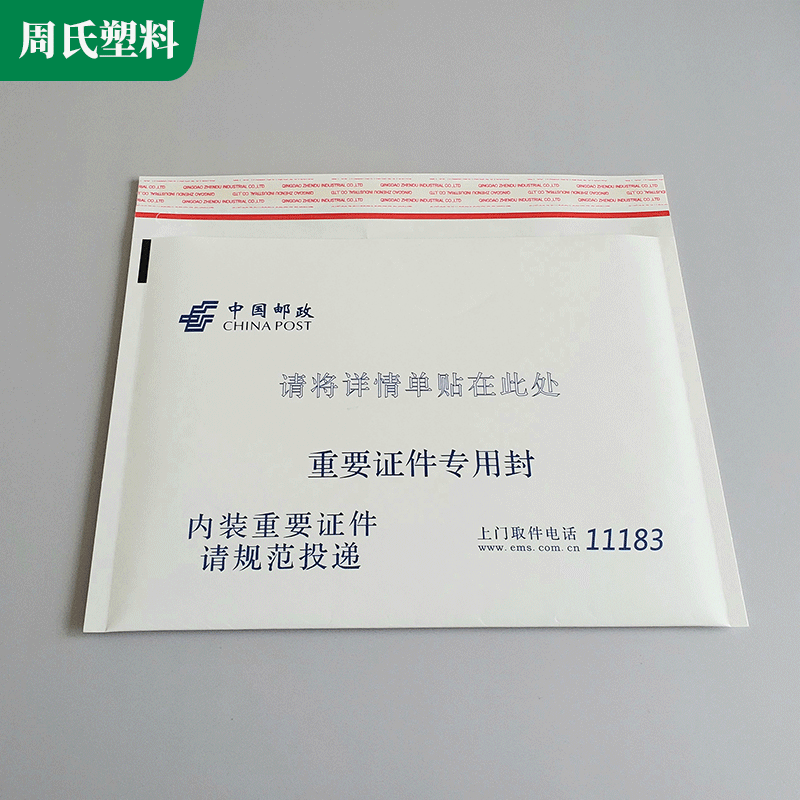Parcel: (80, 170, 745, 631)
